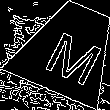M_NE: (34, 16, 104, 82)
